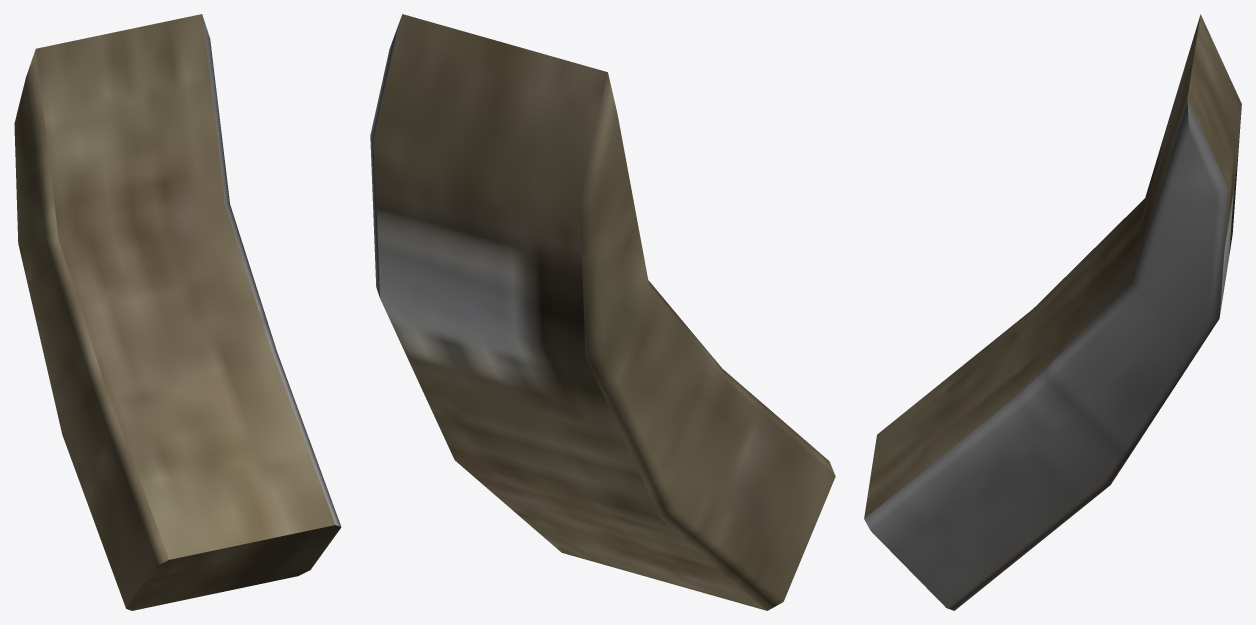
Rendered from airpumpupgrade-base.glb.
3 renders of one model, left to right at view 1: azimuth 30°, elevation 25°; view 2: azimuth 150°, elevation 25°; view 3: azimuth 270°, elevation 25°, orthographic. The views are drawn at different scales.
Bounding box in the file's own units: 0.2402 × 0.5643 × 0.3724.
1 material, 1 textured.
